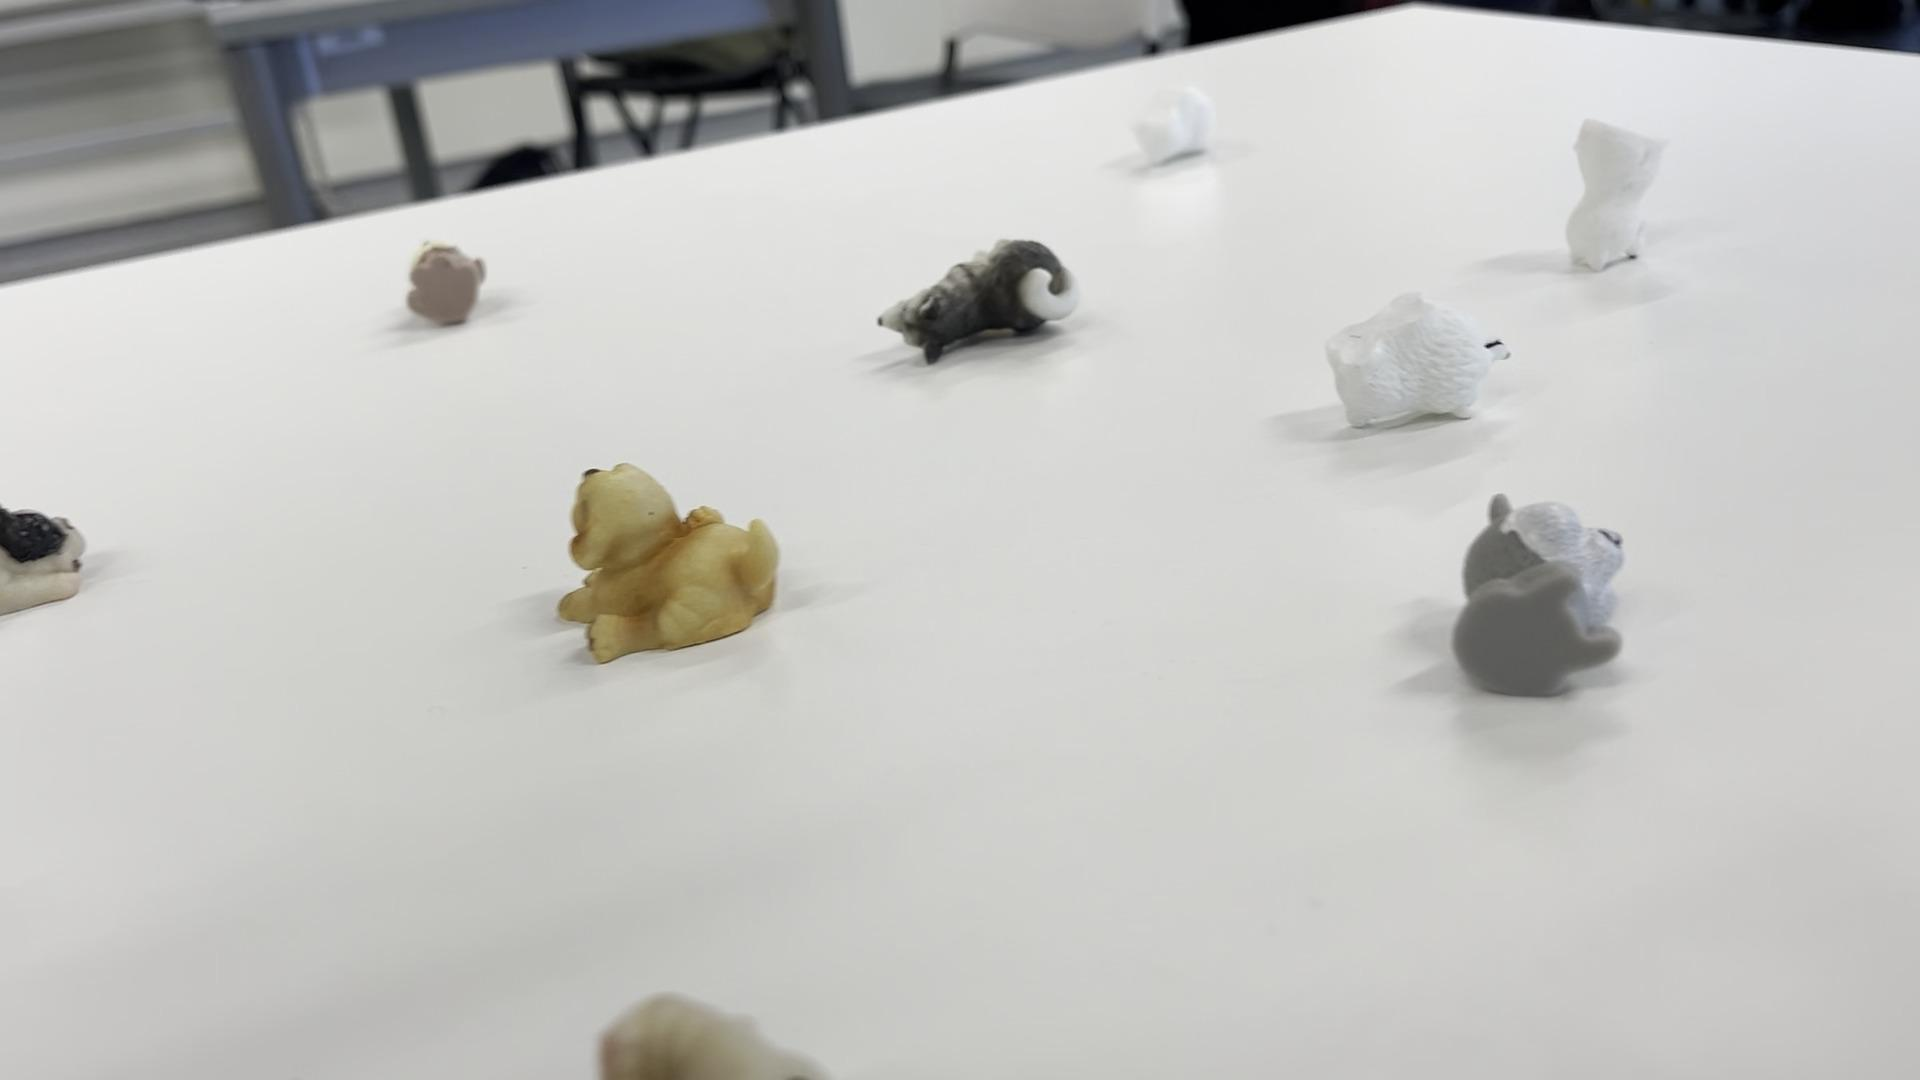pet: (555, 455, 785, 675), (1437, 476, 1658, 705), (1315, 269, 1523, 458), (868, 225, 1118, 368), (1544, 95, 1683, 313), (588, 982, 823, 1080), (392, 223, 554, 335), (18, 471, 117, 625), (1114, 69, 1187, 193)
